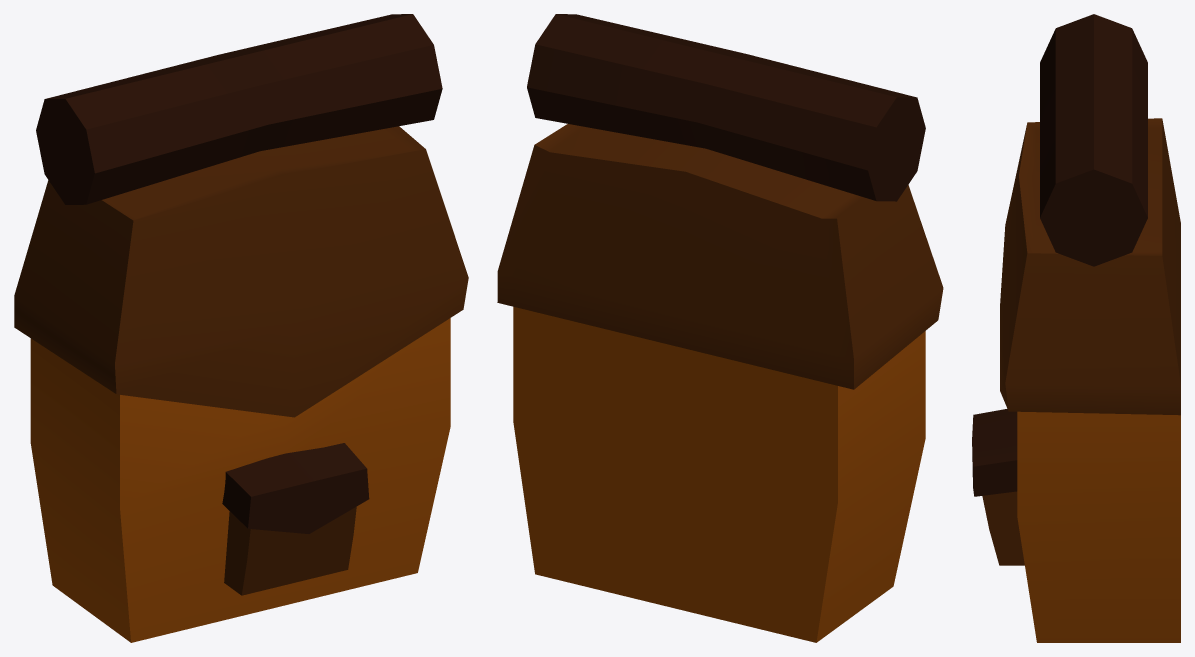
The model's file is backpack.fbx.
3 views of the same model, side by side, from view 1: azimuth 30°, elevation 25°; view 2: azimuth 150°, elevation 25°; view 3: azimuth 270°, elevation 25° (orthographic). The views are drawn at different scales.
Parts seen in each view (by area): view 1: backpack, sleepsack, pocket; view 2: backpack, sleepsack; view 3: backpack, sleepsack, pocket.
Boxes of the visible parts, box(x1,y1,x2,y2) form: backpack: box(14, 126, 468, 642); sleepsack: box(36, 14, 442, 204); pocket: box(222, 443, 369, 595); backpack: box(497, 124, 943, 642); sleepsack: box(527, 14, 925, 201); backpack: box(1000, 118, 1180, 642); sleepsack: box(1040, 14, 1147, 266); pocket: box(972, 409, 1024, 565).
Size of the model in its own units: 9.69 by 13.5 by 5.27.
